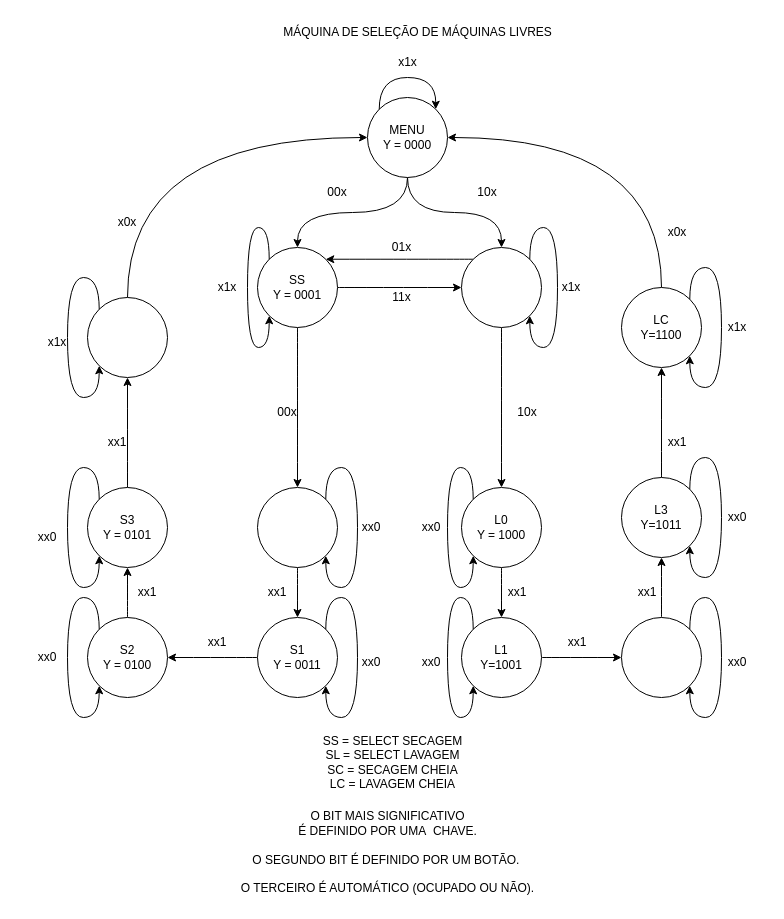
This 784x919 diagram has some shape labels left out. The centre of each missing label's shape, as x and y in pixels:
"L2 Y=1010" goes at (661,657).
"S0 Y = 0010" goes at (297,527).
"SC Y=0110" goes at (127,337).
"SL Y = 0111" goes at (501,287).
